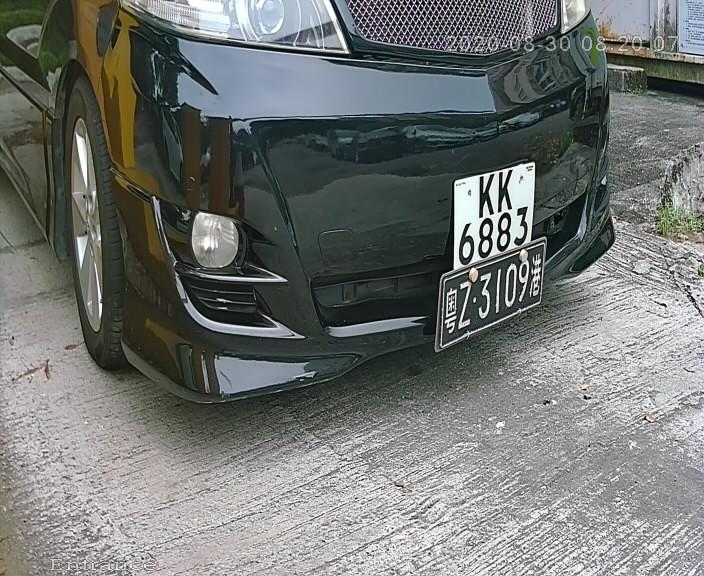Car: (4, 6, 657, 448)
License Plate: (447, 152, 541, 286)
